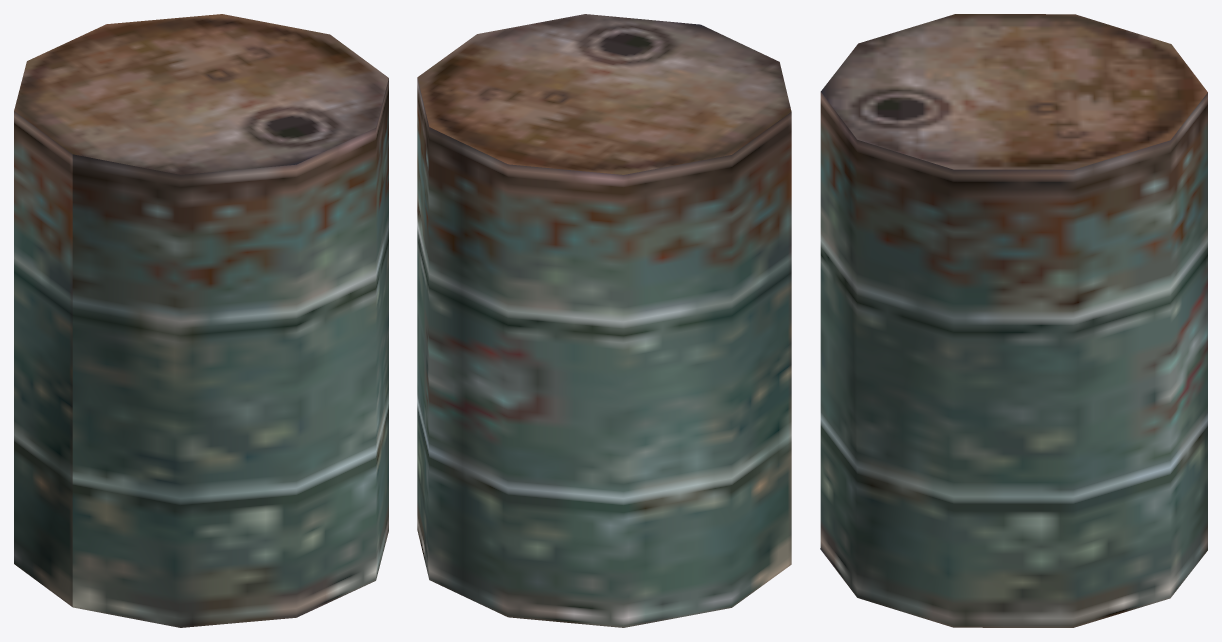
File: MBARREL1.glb
The picture shows the model from 3 angles, left to right: view 1: azimuth 30°, elevation 25°; view 2: azimuth 150°, elevation 25°; view 3: azimuth 270°, elevation 25°; orthographic projection.
Visible parts, largest first — view 1: _MBARREL1; view 2: _MBARREL1; view 3: _MBARREL1.
Boxes of the visible parts, x1,y1,x2,y2 form: _MBARREL1: (14,14,388,627); _MBARREL1: (417,14,791,627); _MBARREL1: (820,14,1207,627).
Bounding box in the file's own units: 0.962 × 1.32 × 1.01.
1 material, 1 textured.
